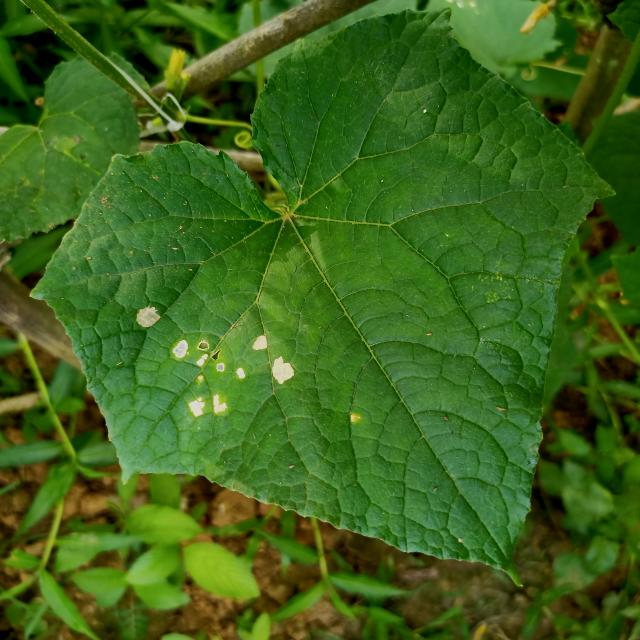disease_cucumber: (138, 305, 296, 416)
